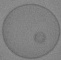small: (33, 32, 45, 43)
